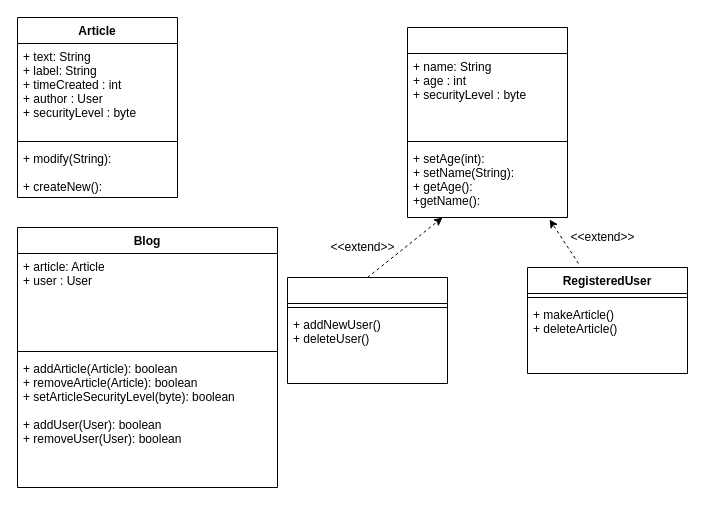
Some shapes in this 705 by 508 pixel diagram are drawn without their labels. Each missing label, with the box of its shape:
Admin: (286, 276, 448, 384)
User: (406, 26, 568, 218)
